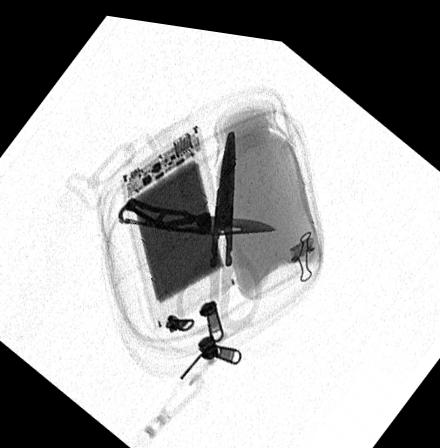Knife: (115, 190, 278, 232)
Powerbank: (118, 114, 238, 326)
Scissors: (167, 118, 261, 331)
